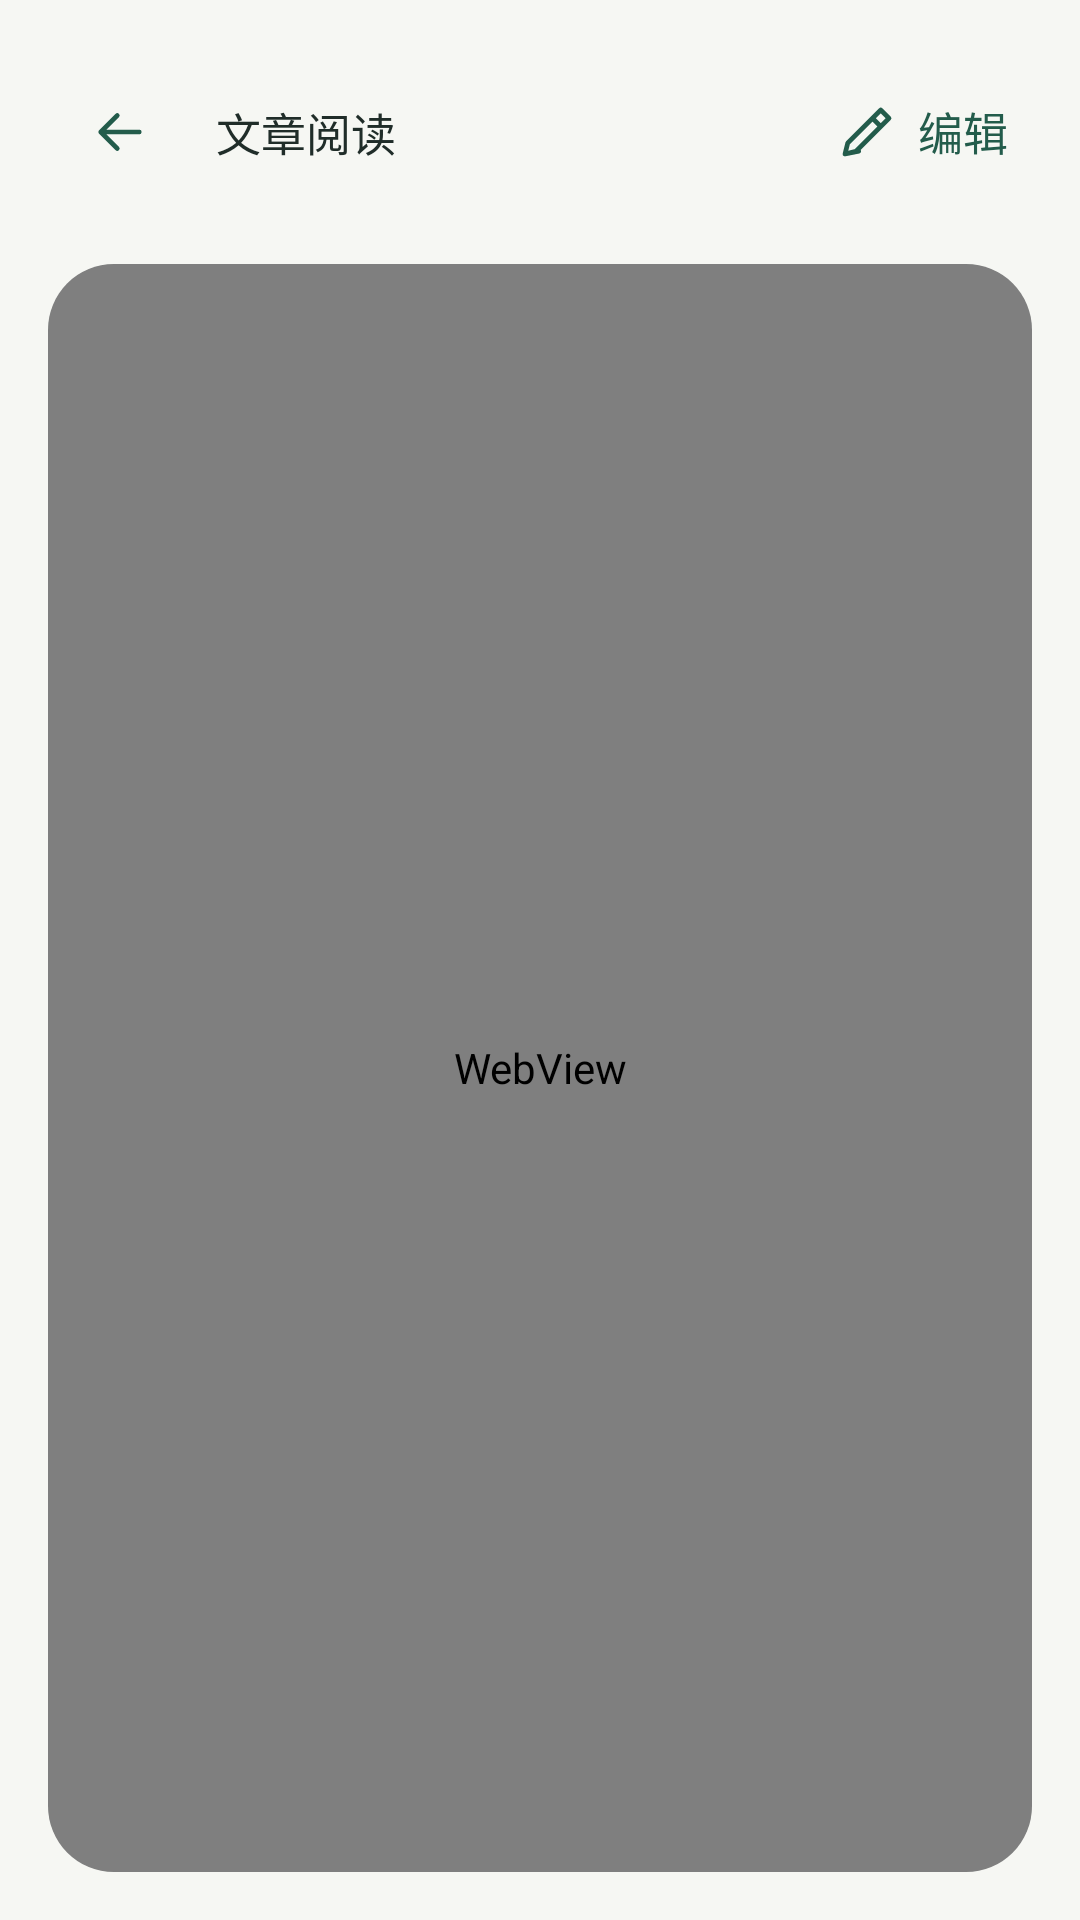

Where to tap for icons on this 1080*1920 app screen, as (x=x, y=y):
返回文章库: (x=120, y=132)
